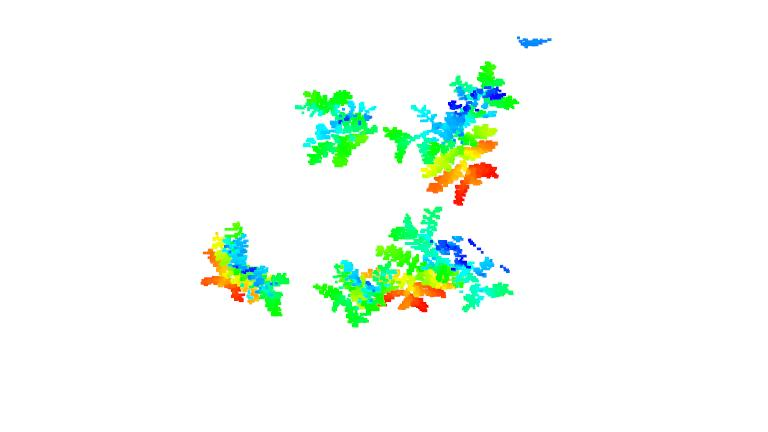chickpea: (381, 60, 523, 209), (381, 206, 517, 317), (195, 219, 293, 319), (291, 86, 379, 170), (310, 259, 407, 330)
